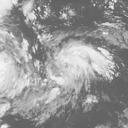cyclone: (50, 41, 114, 94)
